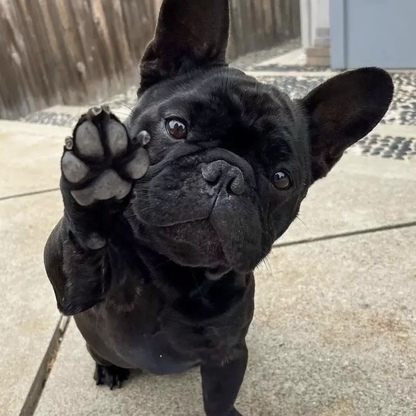bulldog: (55, 4, 381, 414)
